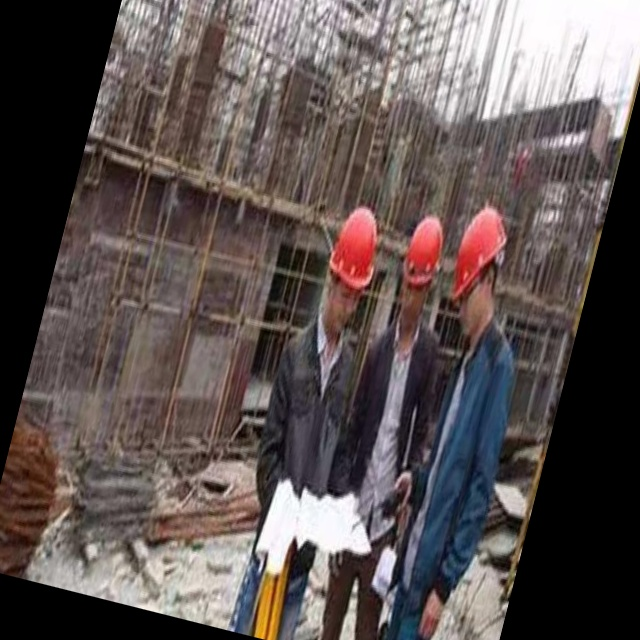Con_Casco: (440, 202, 517, 330), (320, 208, 386, 326), (387, 208, 452, 327)
